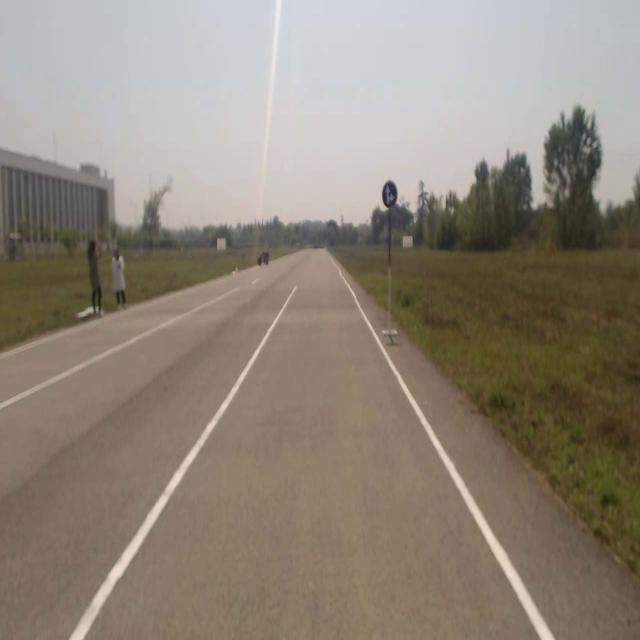ilerisag: (383, 180, 397, 207)
